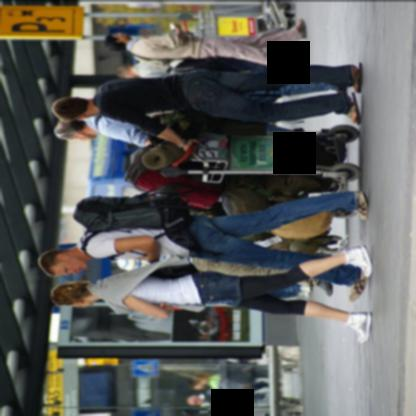backpack: (68, 183, 216, 256), (157, 56, 239, 72)
handbag: (163, 224, 201, 255), (148, 262, 199, 278)
suitcase: (124, 148, 223, 208)
